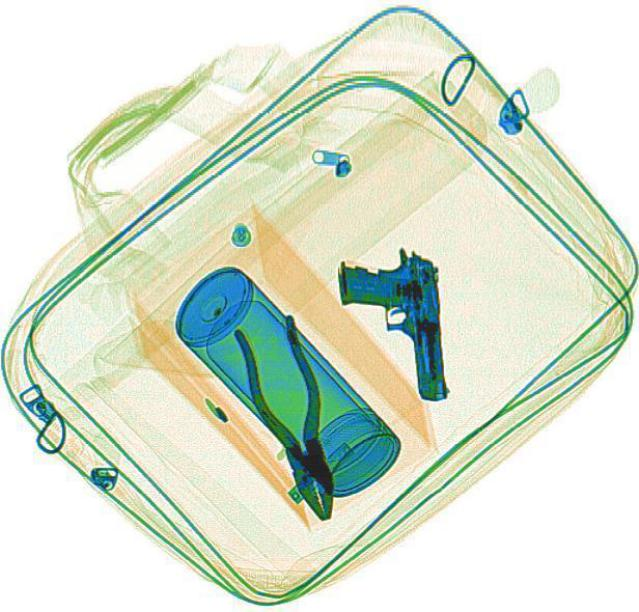Gun: (333, 241, 449, 405)
Pliers: (229, 312, 354, 525)
